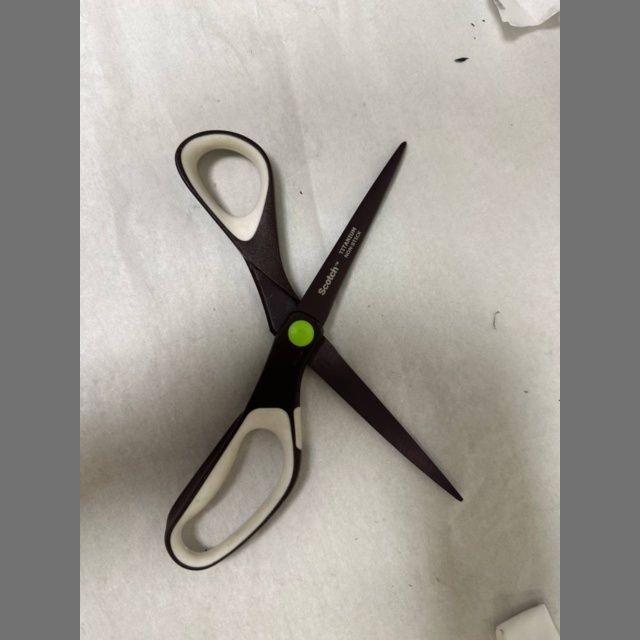scissor: (165, 131, 462, 570)
